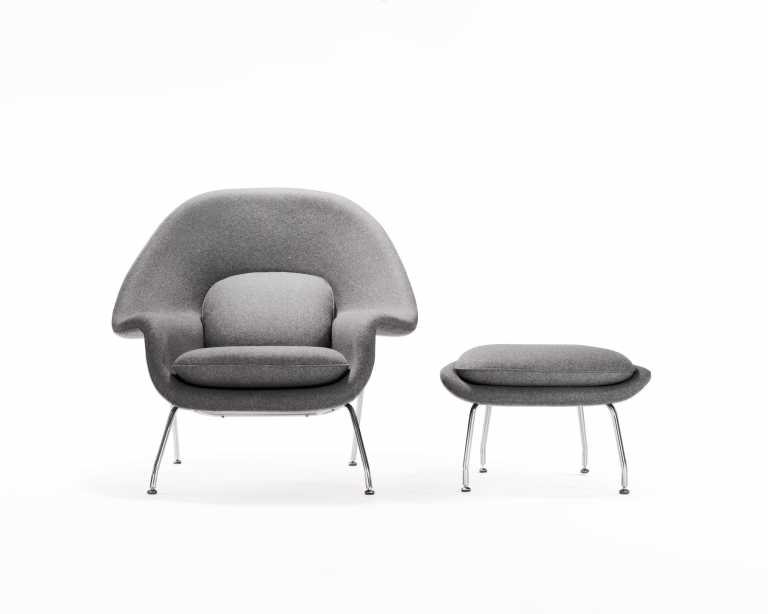chairs: (107, 187, 420, 502), (433, 337, 655, 497)
